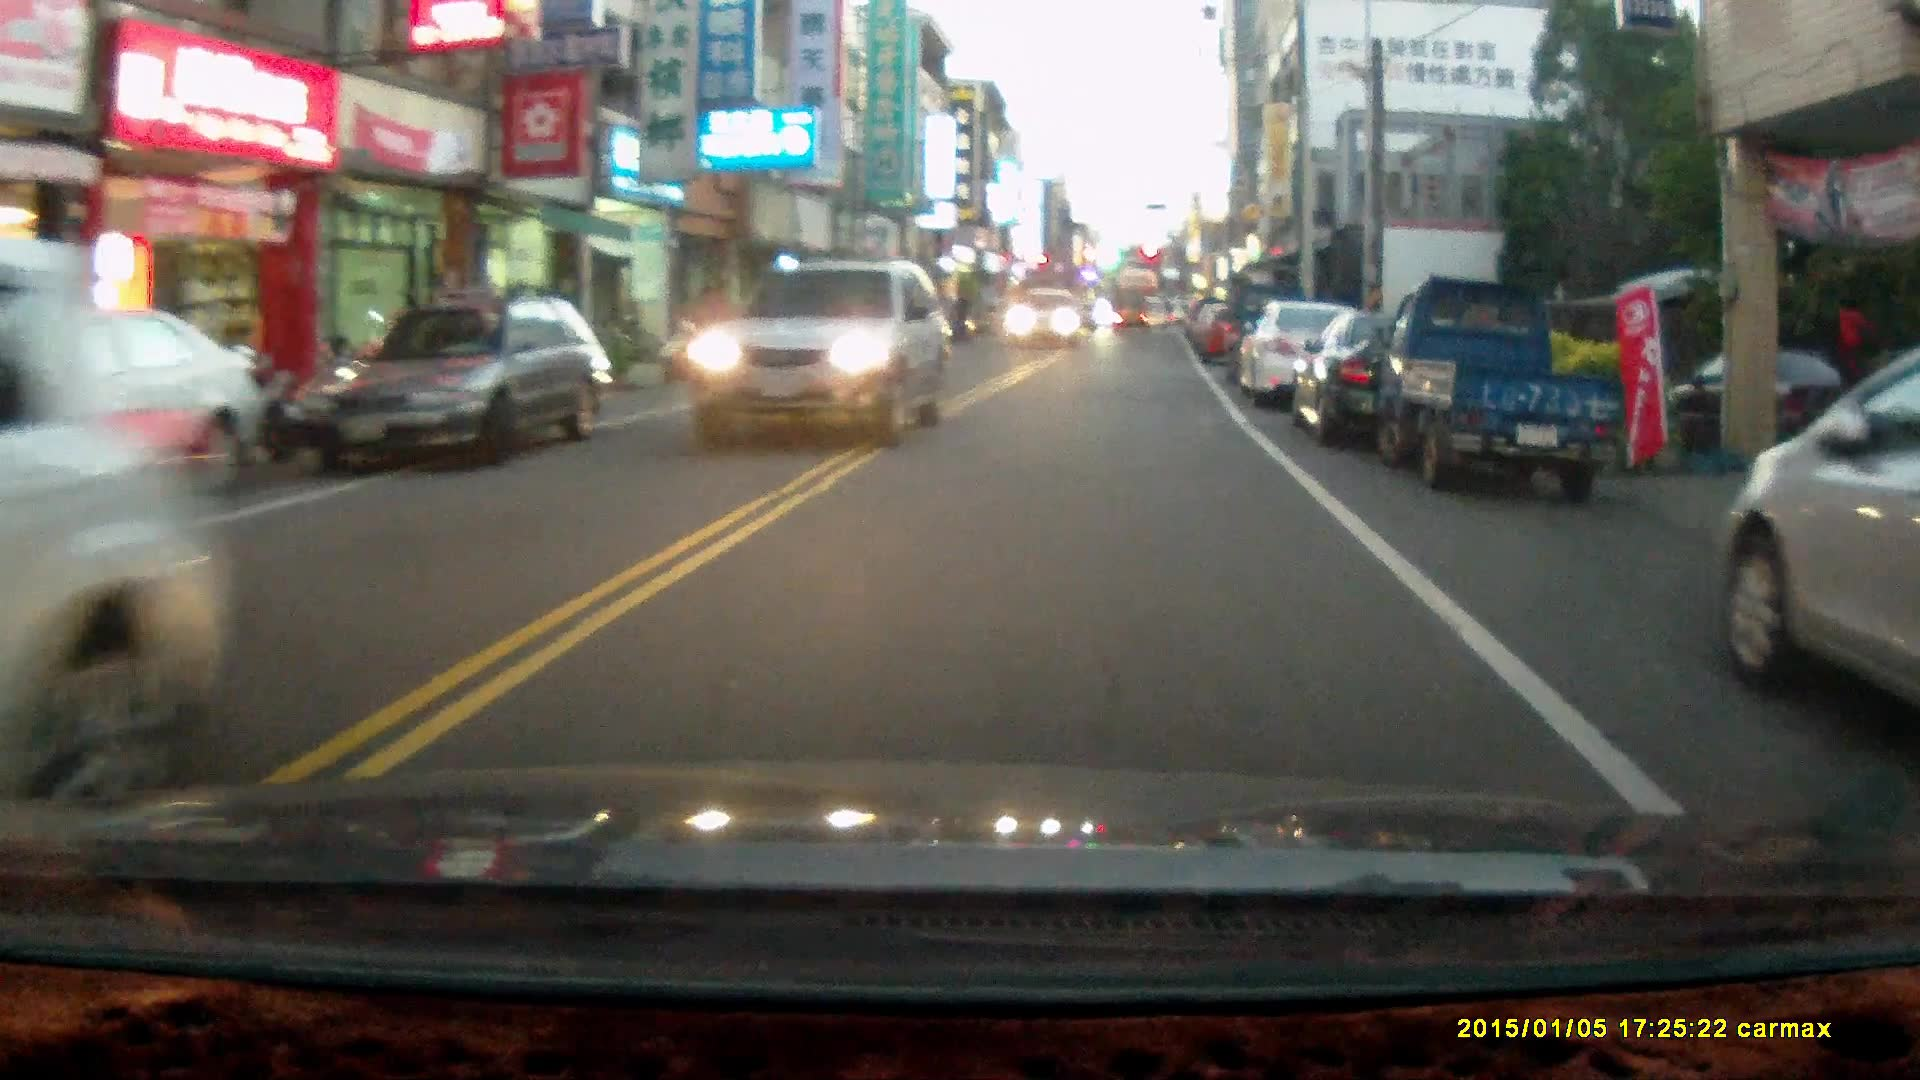pedestrian: (1828, 291, 1884, 472)
vehicle: (1, 268, 230, 805), (1722, 341, 1920, 722), (1371, 269, 1643, 502), (289, 290, 615, 473), (691, 256, 957, 444), (1300, 307, 1517, 443), (1238, 300, 1394, 408), (1004, 288, 1088, 348)
